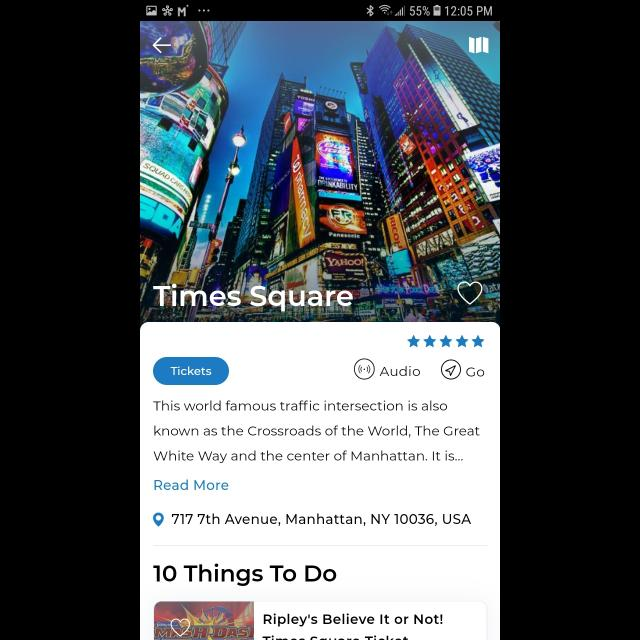icon: (408, 336, 484, 348), (458, 282, 482, 304), (441, 360, 461, 380), (152, 38, 172, 54), (469, 38, 488, 54), (154, 513, 164, 527)
image: (140, 22, 500, 322), (154, 602, 254, 640), (354, 360, 374, 380)
text: (153, 401, 479, 464), (154, 284, 352, 312), (262, 614, 442, 640), (154, 564, 336, 586), (173, 514, 472, 526), (155, 480, 229, 490), (380, 366, 420, 376), (467, 368, 485, 377)
textbutton: (153, 357, 229, 385)
uppertaskbar: (140, 1, 500, 22)
